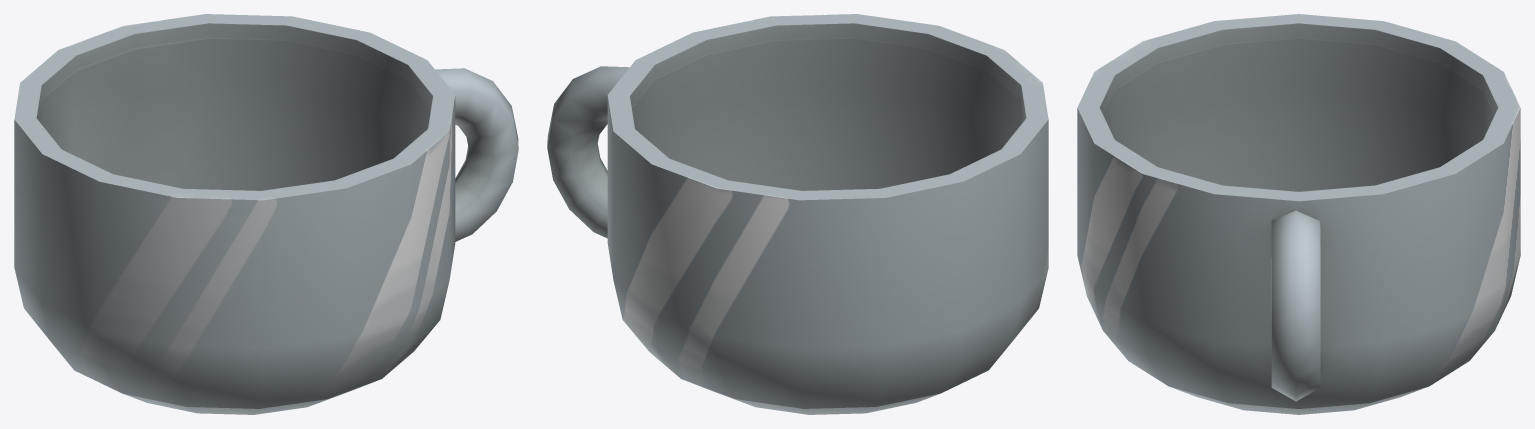
File: cup singel.fbx
3 renders of one model, left to right at view 1: azimuth 30°, elevation 25°; view 2: azimuth 150°, elevation 25°; view 3: azimuth 270°, elevation 25°, orthographic.
Visible parts, largest first — view 1: empty cup; view 2: empty cup; view 3: empty cup.
Boxes of the visible parts, x1=… form: empty cup: x1=14, y1=14, x2=518, y2=414; empty cup: x1=547, y1=14, x2=1048, y2=414; empty cup: x1=1077, y1=14, x2=1520, y2=414.
Bounding box in the file's own units: 69.02 × 35.48 × 56.01.
